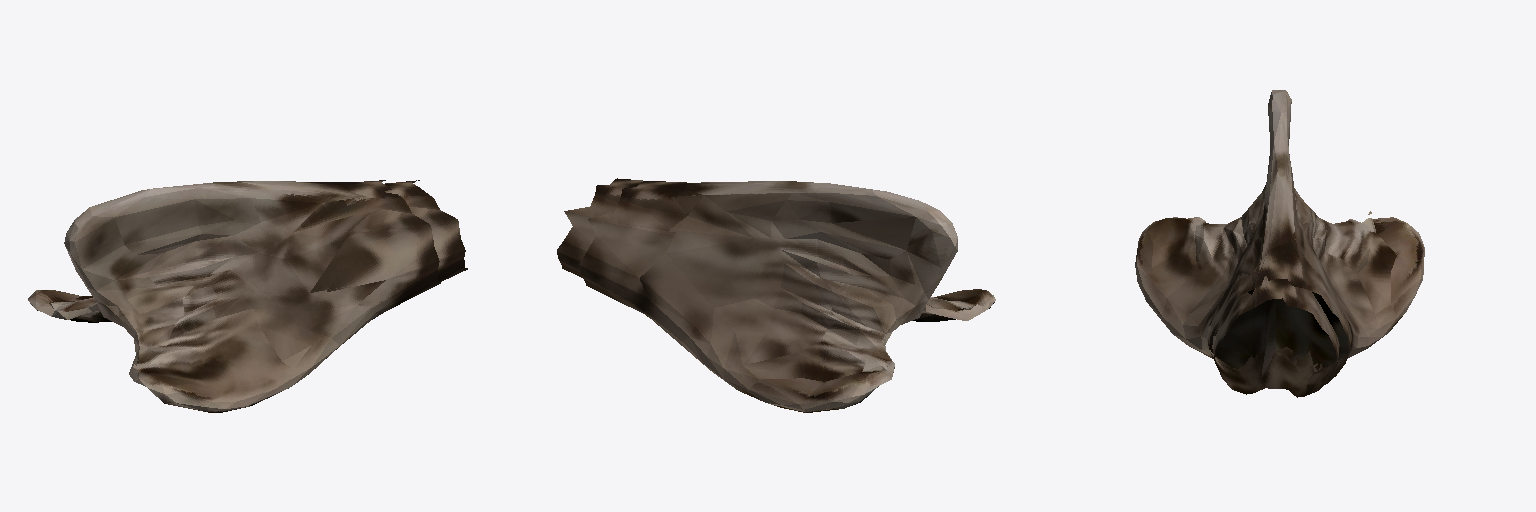
The picture shows the model from 3 angles: view 1: azimuth 30°, elevation 25°; view 2: azimuth 150°, elevation 25°; view 3: azimuth 270°, elevation 25°; orthographic projection.
Visible parts, largest first — view 1: cola.001; view 2: cola.001; view 3: cola.001.
Boxes of the visible parts, <box> form: cola.001: <box>28,180,467,412</box>; cola.001: <box>557,178,995,412</box>; cola.001: <box>1135,90,1424,397</box>.
Size of the model in its own units: 0.1873 by 0.0871 by 0.1241.
1 materials, 1 textured.